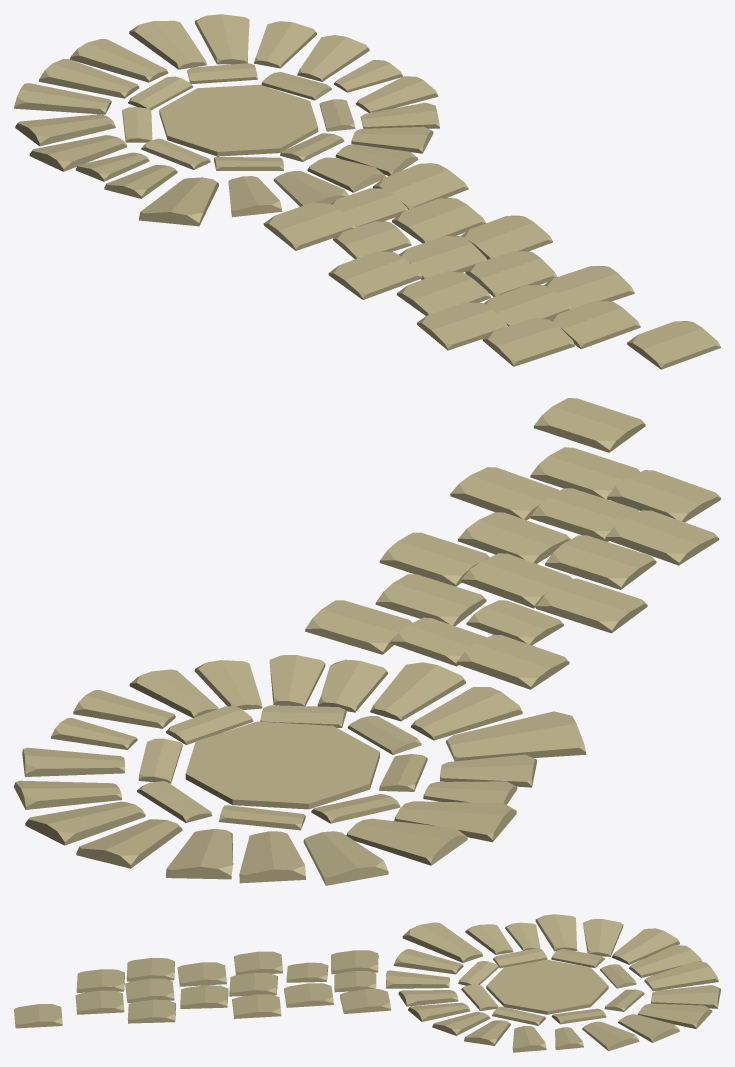
Rendered from Tile_low.fbx.
3 views of the same model, one above another, from view 1: azimuth 30°, elevation 25°; view 2: azimuth 150°, elevation 25°; view 3: azimuth 270°, elevation 25° (orthographic). The views are drawn at different scales.
Parts seen in each view (by area): view 1: Tile_low; view 2: Tile_low; view 3: Tile_low.
Part boxes in pixels (x1,y1,x2,y2): Tile_low: (14, 14, 720, 369); Tile_low: (14, 398, 720, 885); Tile_low: (14, 914, 720, 1052).
Bounding box in the file's own units: 331 × 20.23 × 744.
